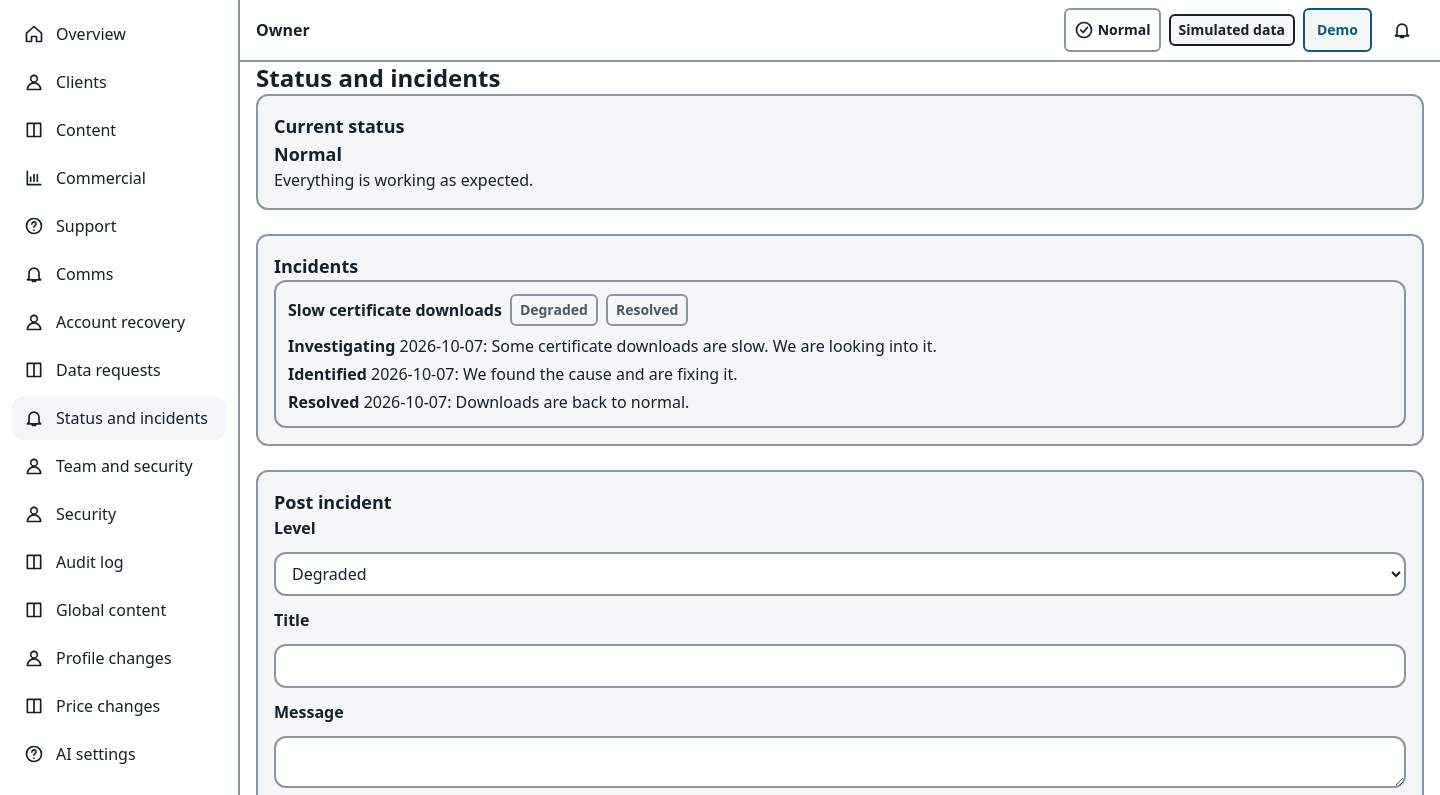
Test case: P17 Status and incidents › Resolved returns the status to Normal and removes the update controls
Expected: the heading "Status and incidents" is shown, [256,62,500,94]
Select "Incident" in the dropdown labelled "Level". click: {"x": 840, "y": 574}
box: [274,552,1406,596]
Type "Sign-in problems" into the field labelled "Title". click: {"x": 840, "y": 666}
box: [274,644,1406,688]
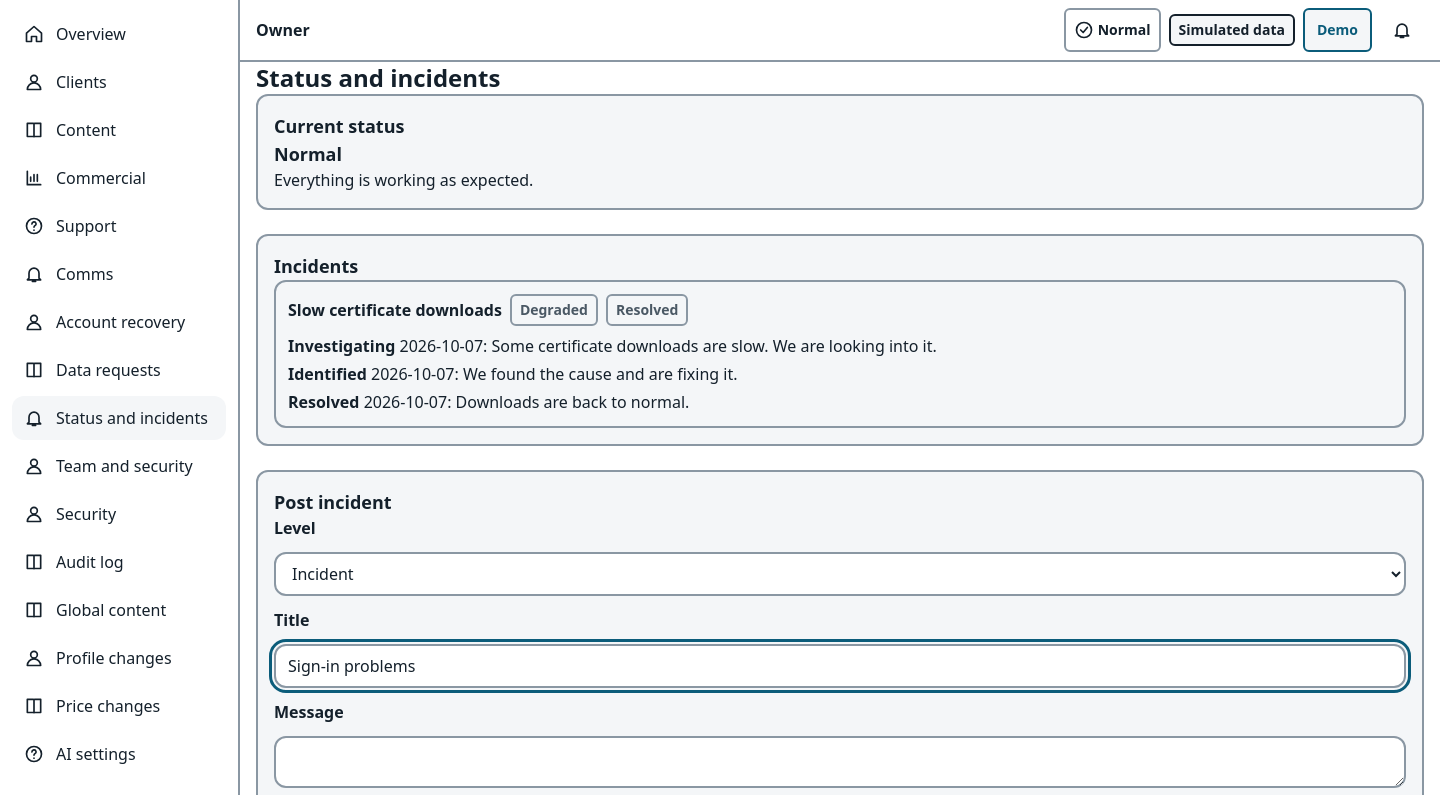
Type "Looking into it." into the text box labelled "Message". click: {"x": 840, "y": 762}
box: [274,736,1406,788]
(page scrolled)
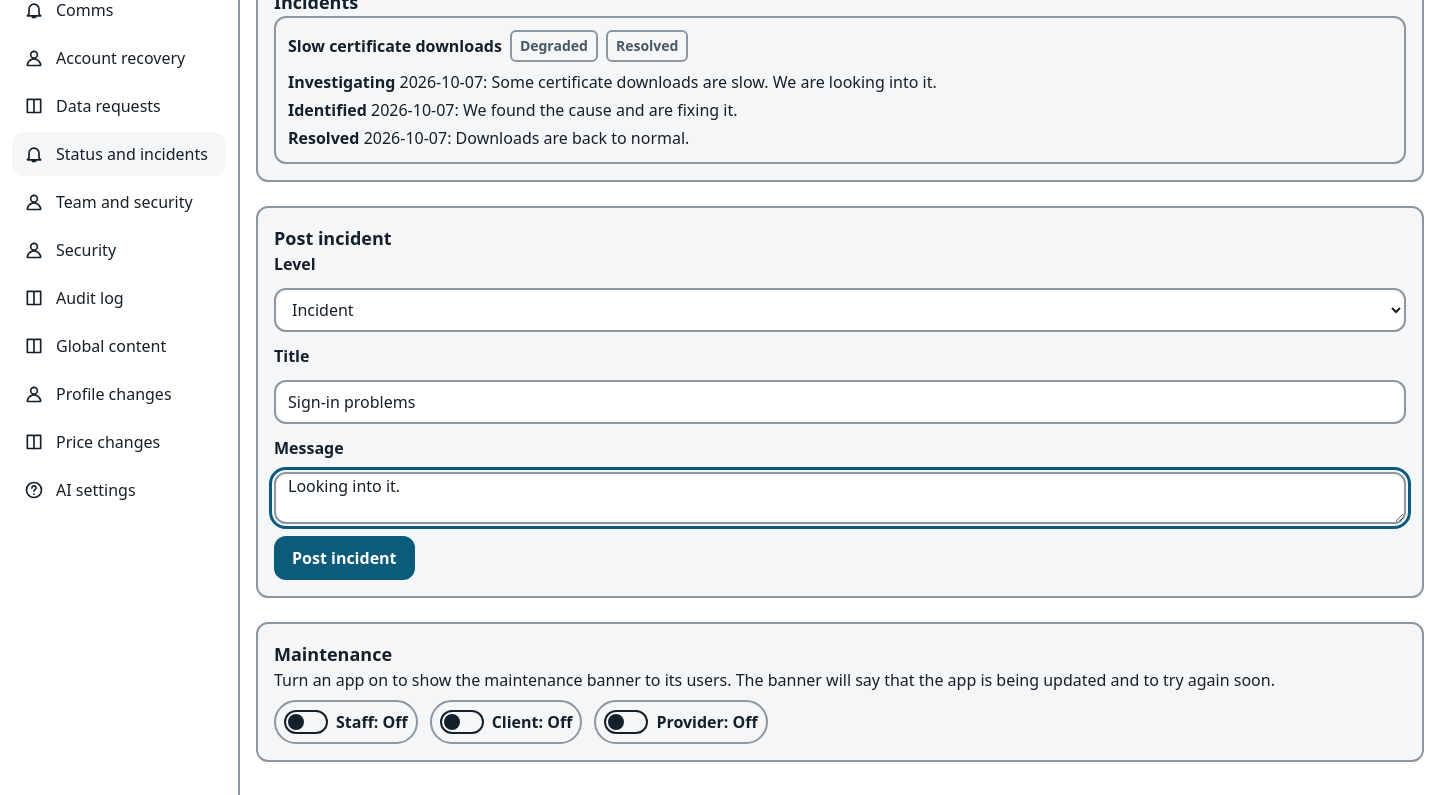
Click the button "Post incident". click: {"x": 344, "y": 558}
box: [274,536,414,580]
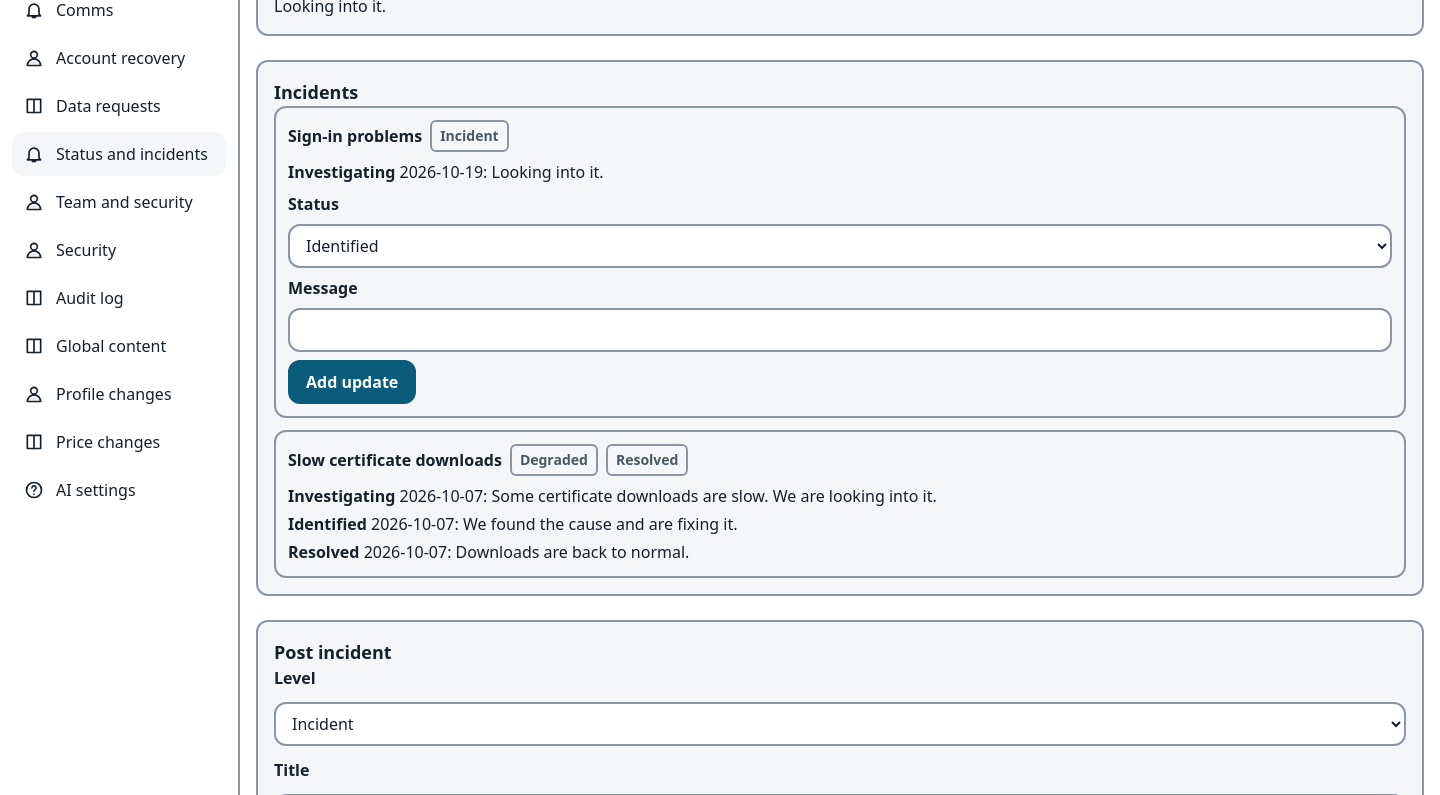
Expected: the number of list items with test id "incident-row" is 2, [274,106,1406,418]; [274,430,1406,578]
Select "Resolved" in the dropdown labelled "Status". click: {"x": 840, "y": 246}
box: [288,224,1392,268]
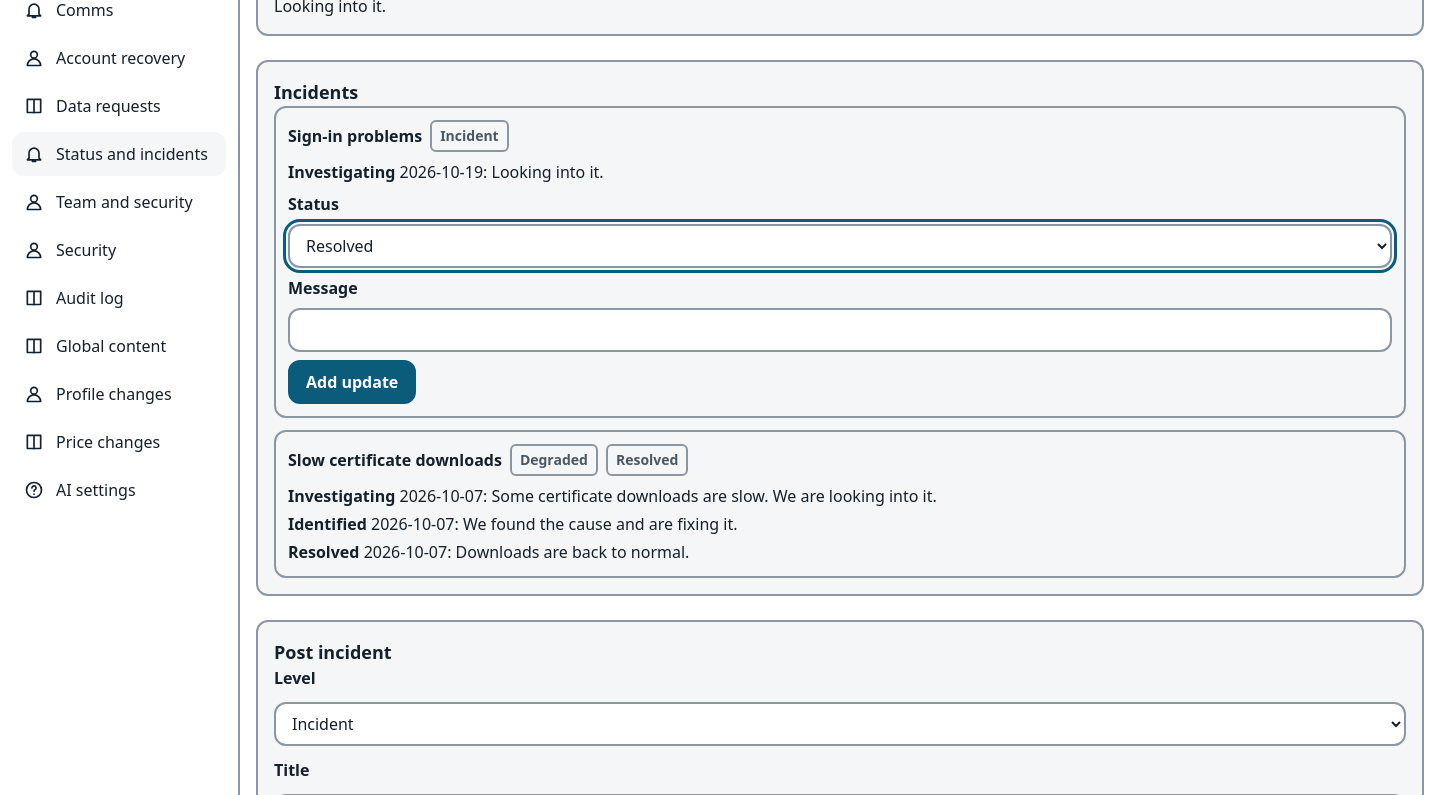
Type "Everything is working again." into the field labelled "Message". click: {"x": 840, "y": 330}
box: [288,308,1392,352]
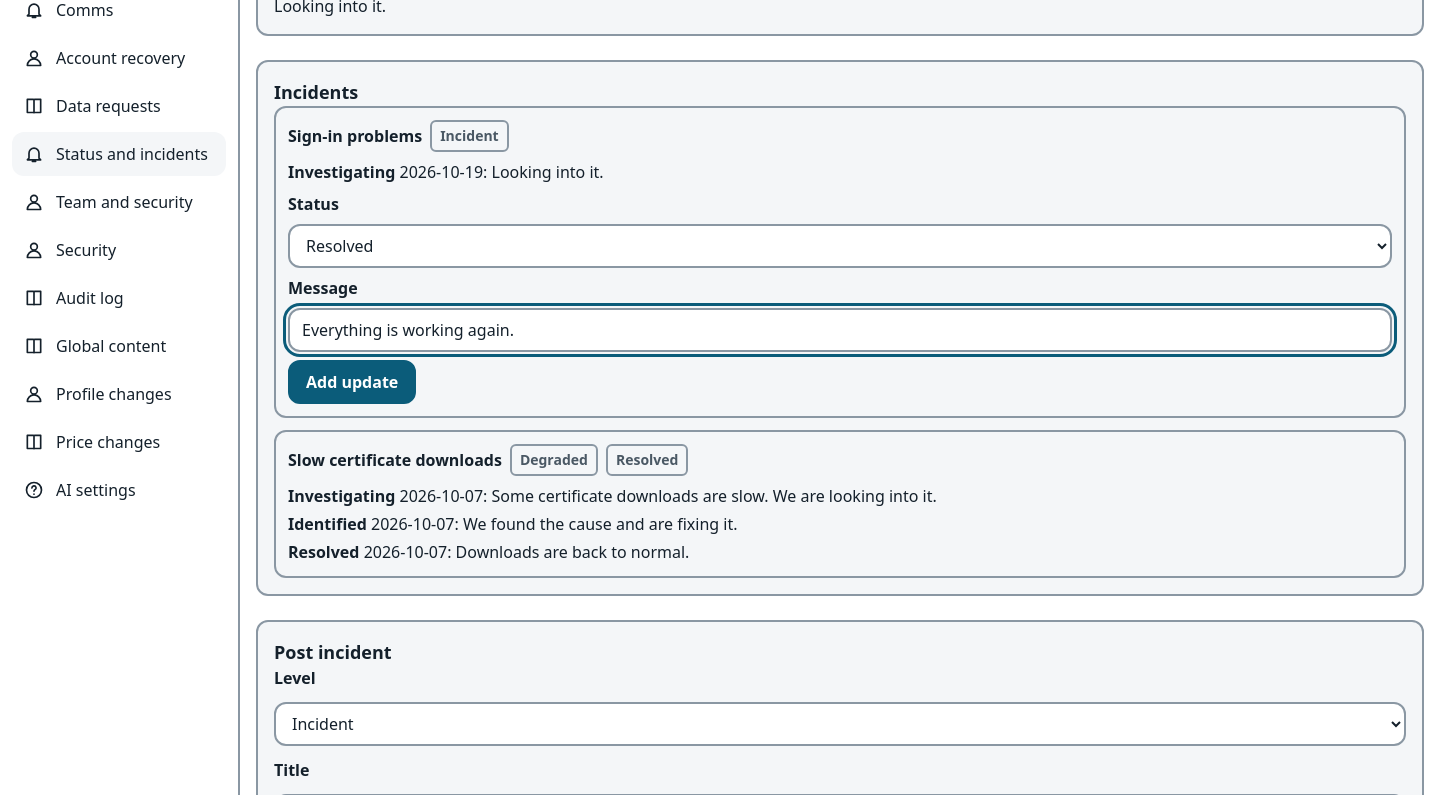
Click the button "Add update". click: {"x": 352, "y": 382}
box: [288,360,416,404]
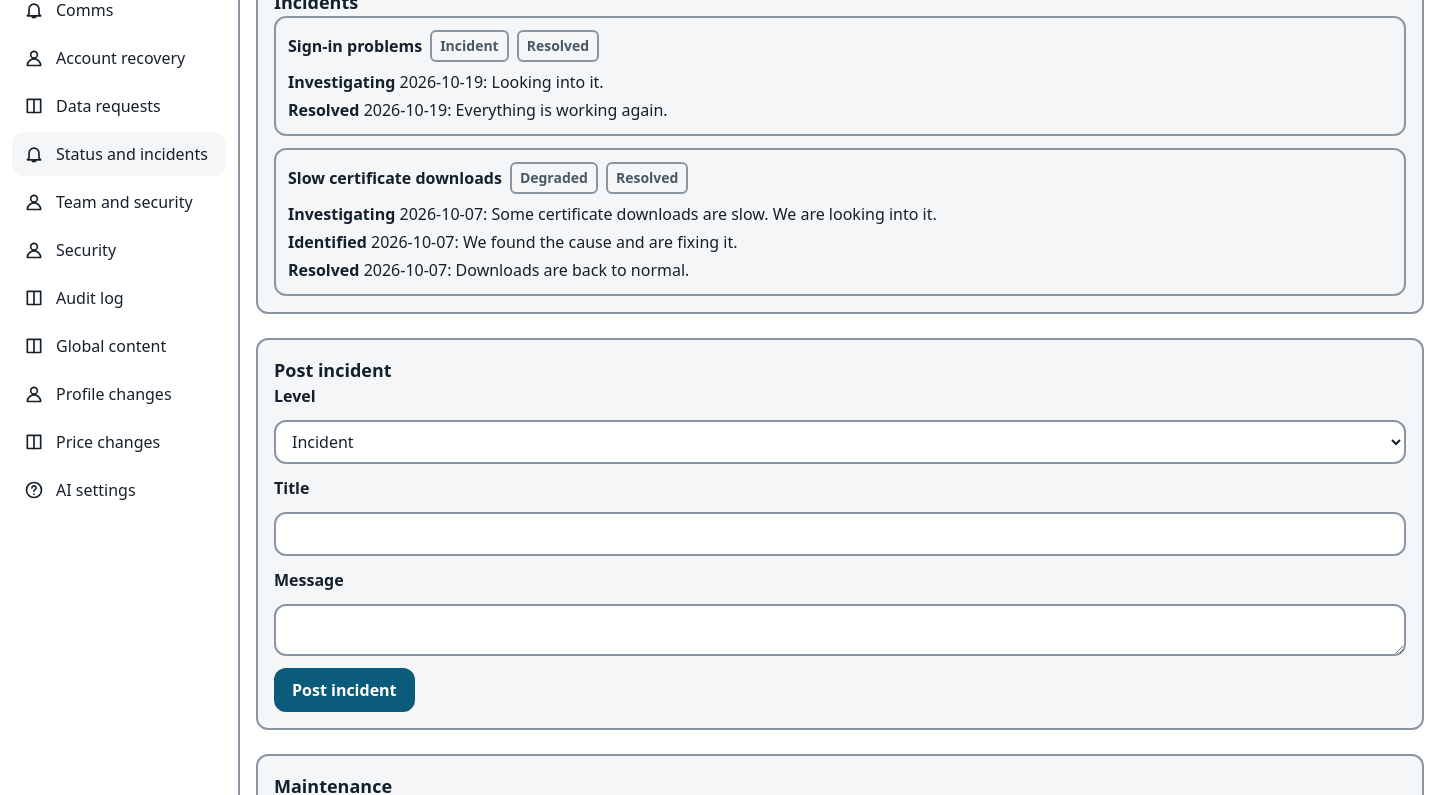
Expected: the list item with test id "incident-row" shows "Resolved", [527,36,589,55]
Expected: the list item with test id "incident-row" shows "Everything is working again.", [456,99,668,121]
Expected: no buttons "Add update" are shown
